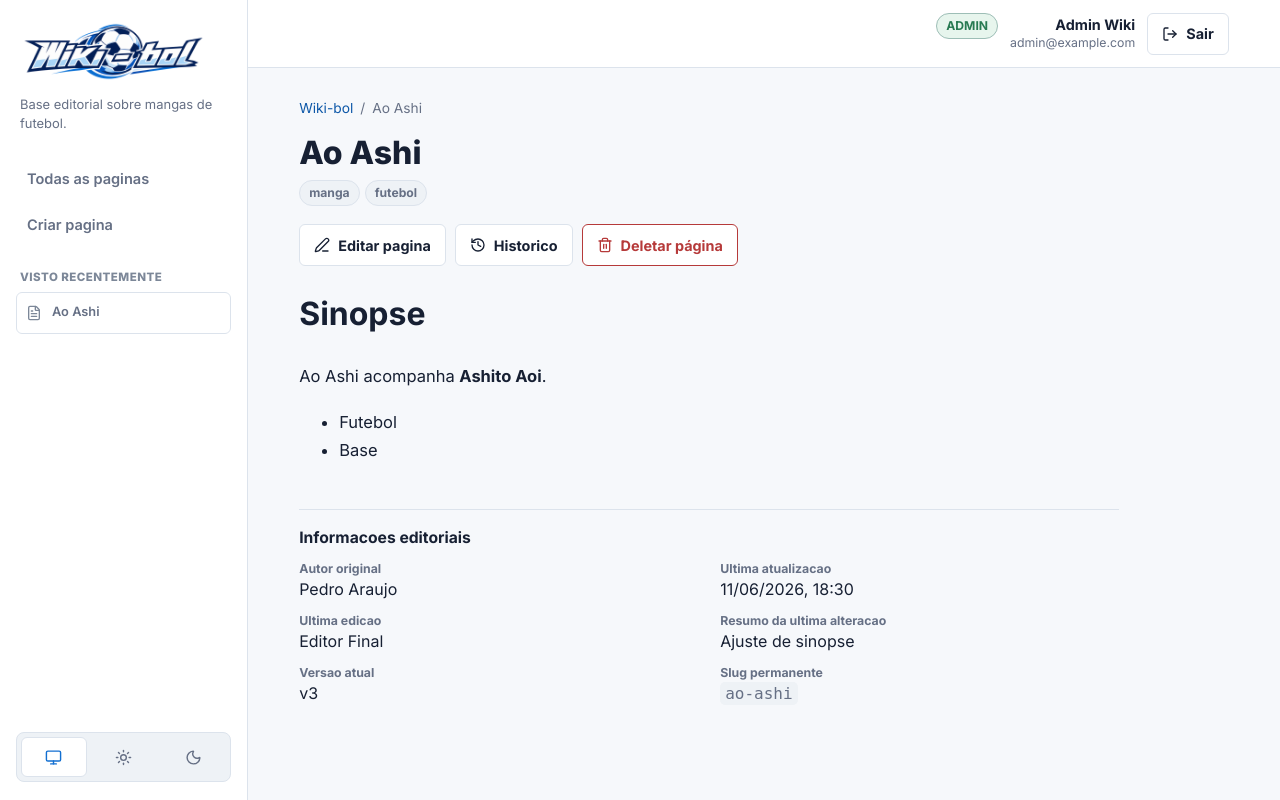
Wiki-bol frontend › deletes a page only after modal confirmation
Click the button "Deletar página".
click(660, 245)  # box [582,224,738,266]
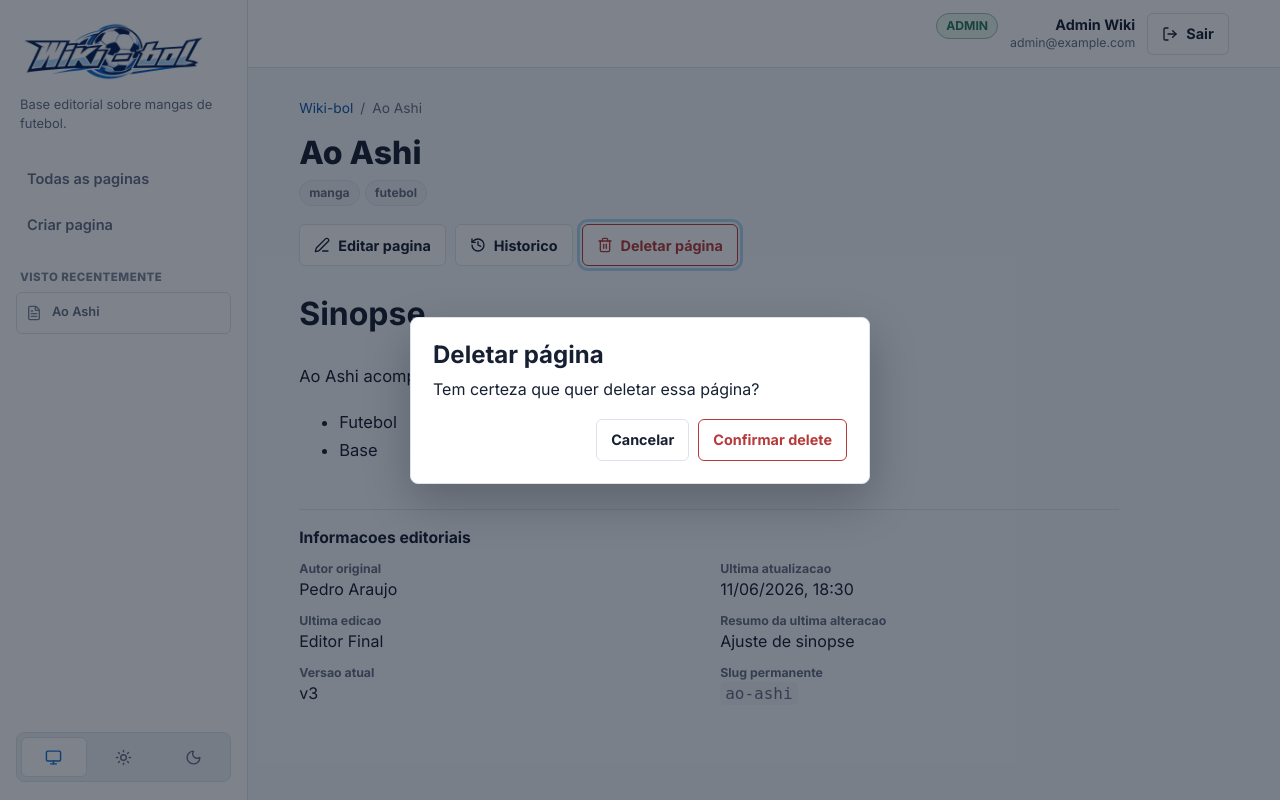
Check: the text "Tem certeza que quer deletar essa página?" is shown, box [433,378,760,398]
Click the button "Confirmar delete".
click(773, 440)  # box [698,418,847,460]
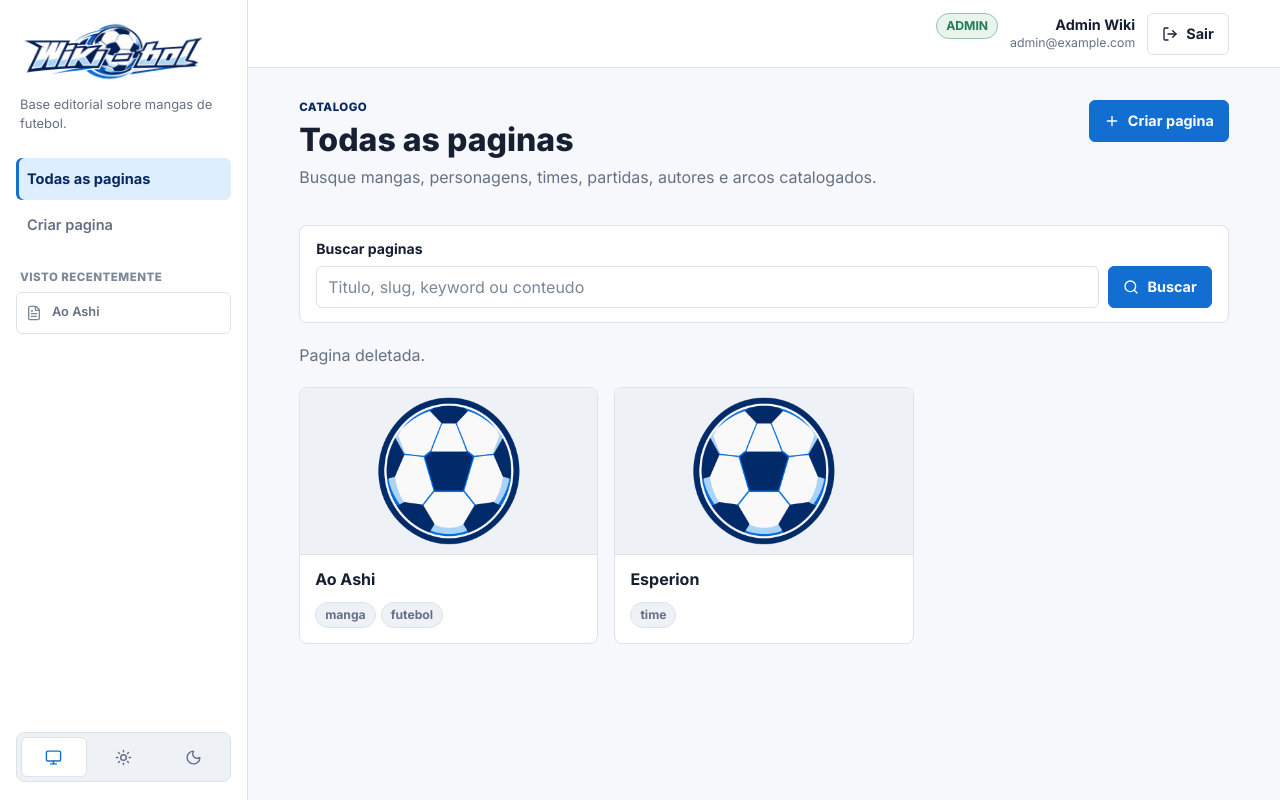
Check: the text "Pagina deletada." is shown, box [299,345,425,365]
